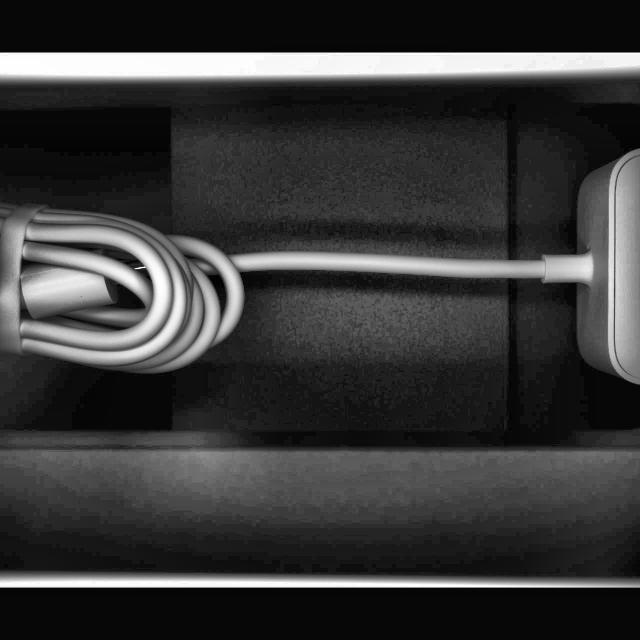Cable: (0, 141, 640, 395)
